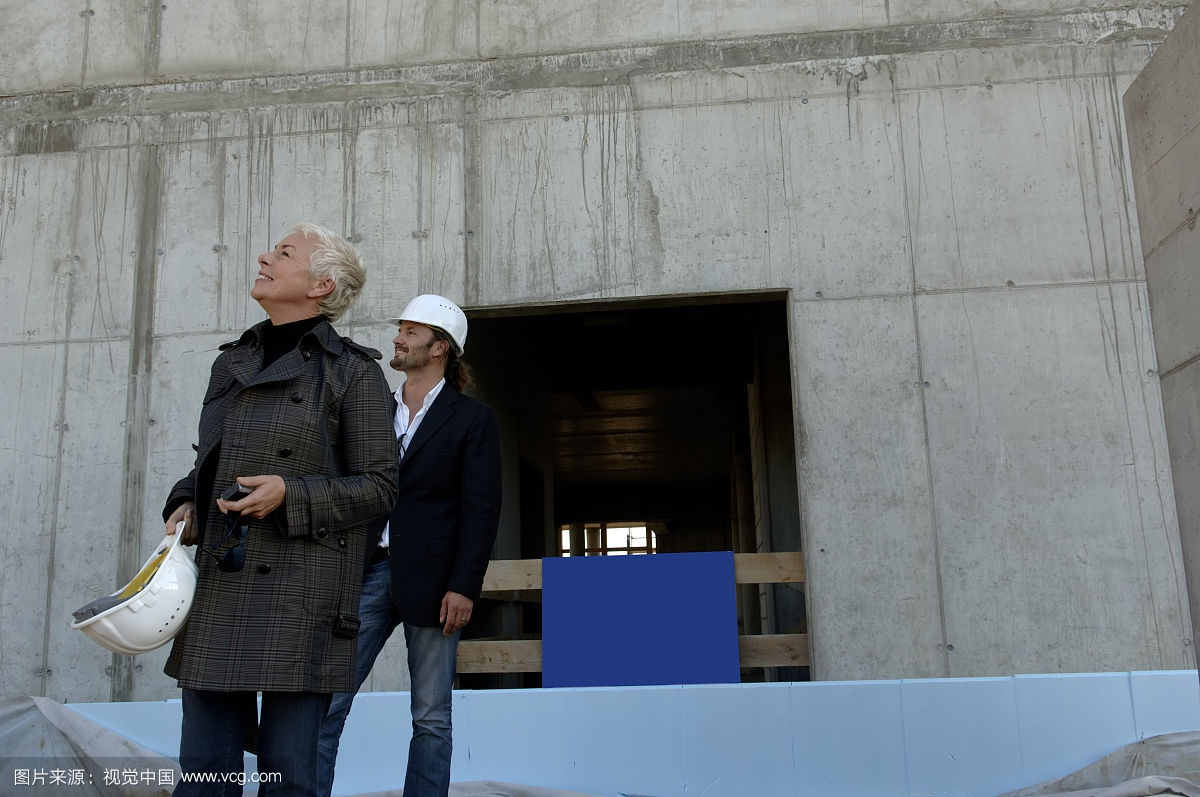none: (249, 225, 363, 326)
white: (390, 296, 468, 379)
